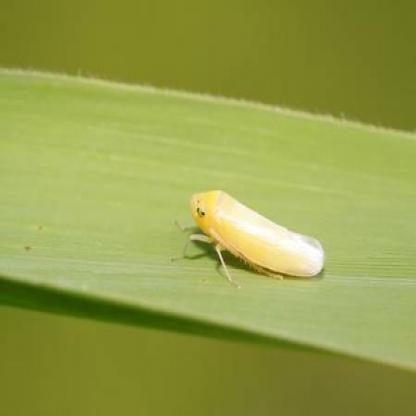Green-Leafhopper: (171, 185, 323, 288)
